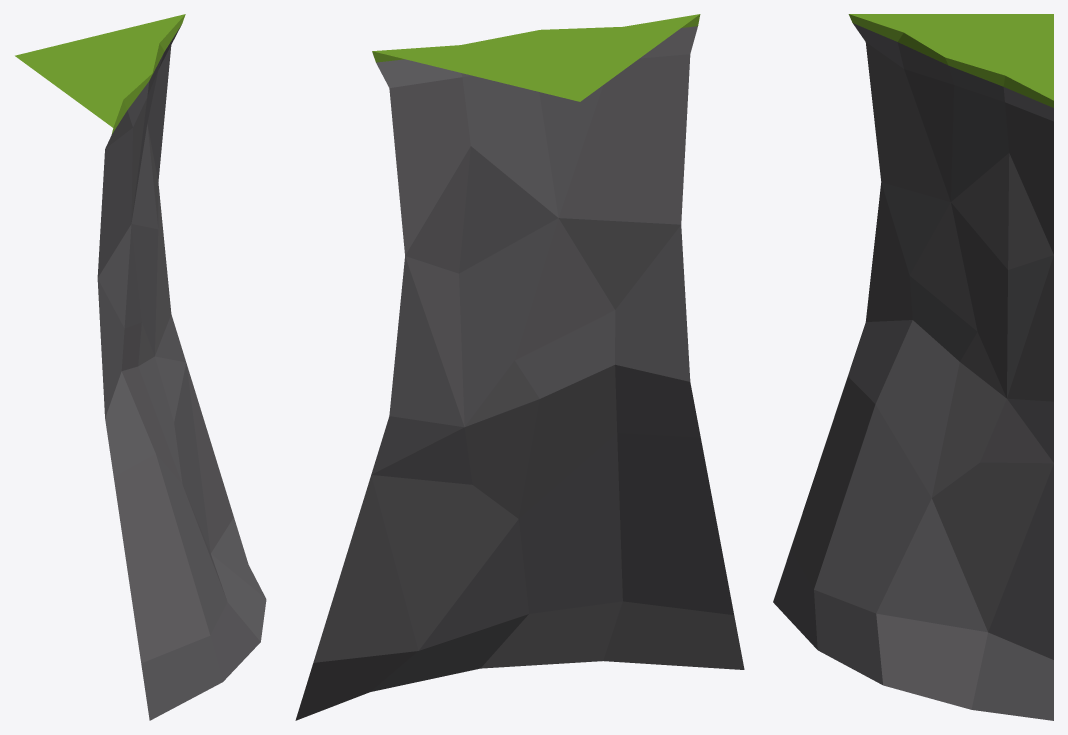
File: mesh_cliff_4x1m_corner.fbx
3 renders of one model, left to right at view 1: azimuth 30°, elevation 25°; view 2: azimuth 150°, elevation 25°; view 3: azimuth 270°, elevation 25°, orthographic. The views are drawn at different scales.
Visible parts, largest first — view 1: mesh_cliff_4x1m_corner; view 2: mesh_cliff_4x1m_corner; view 3: mesh_cliff_4x1m_corner.
Boxes of the visible parts, x1,y1,x2,y2 form: mesh_cliff_4x1m_corner: (15, 14, 266, 720); mesh_cliff_4x1m_corner: (295, 14, 744, 720); mesh_cliff_4x1m_corner: (773, 14, 1053, 720).
Bounding box in the file's own units: 182 × 420 × 182.
